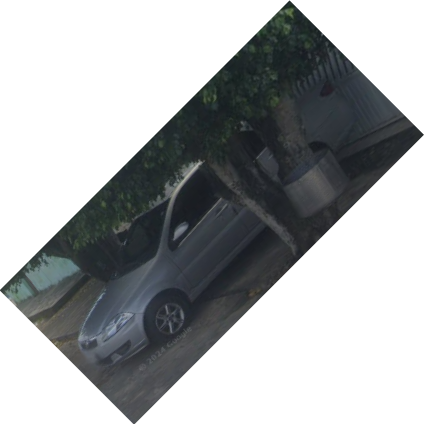car: (80, 208, 248, 385)
